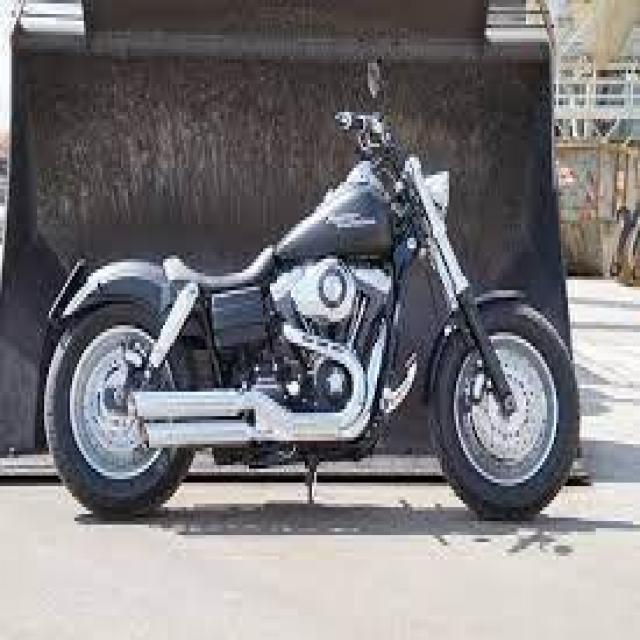Bike: (43, 94, 581, 519)
